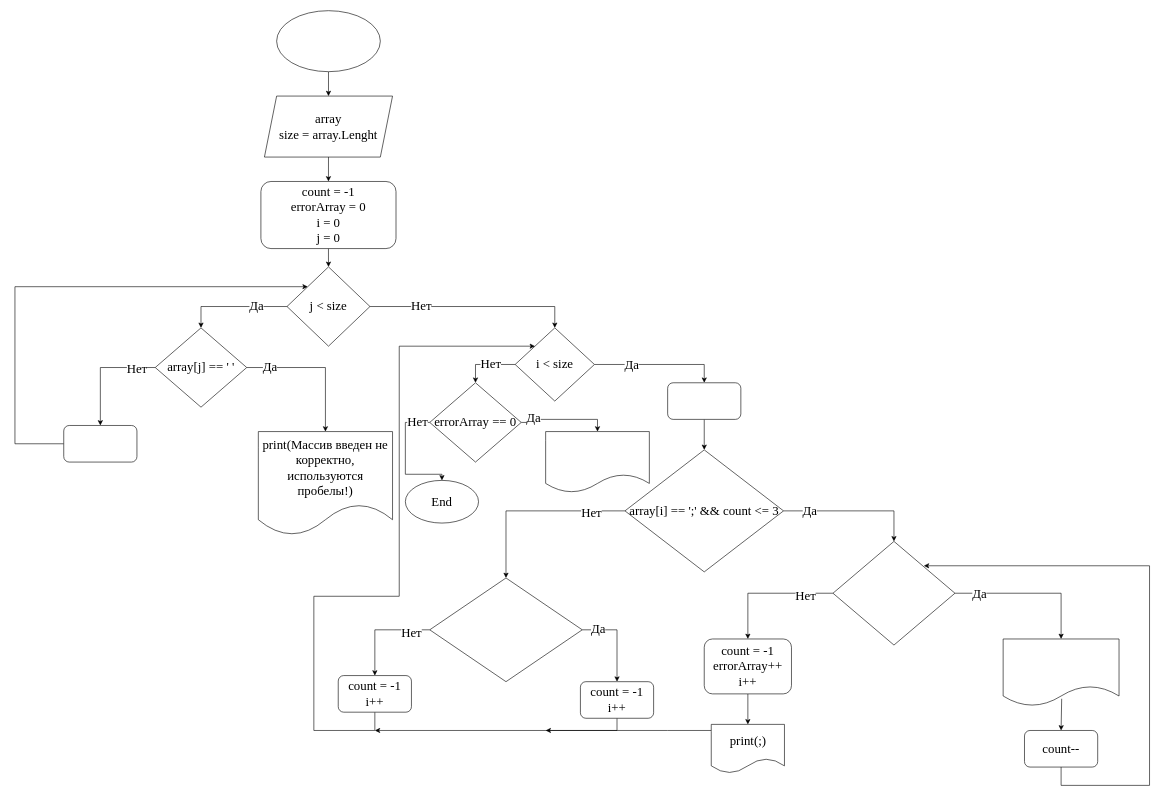
This 1165x801 diagram has some shape labels left out. Each missing label, with the centre of its shape:
array[i - count] != ';': point 893,593
array[i] == ';' && count > 3: point 505,629
count++: point 704,400
j++: point 100,443
print(array[i - count]): point 1061,672
print(Соответсвующих элементов в массиве нет!): point 597,462
Start: point 328,41
